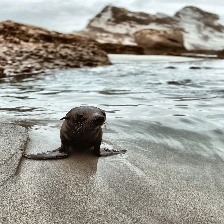seal: (60, 106, 110, 157)
